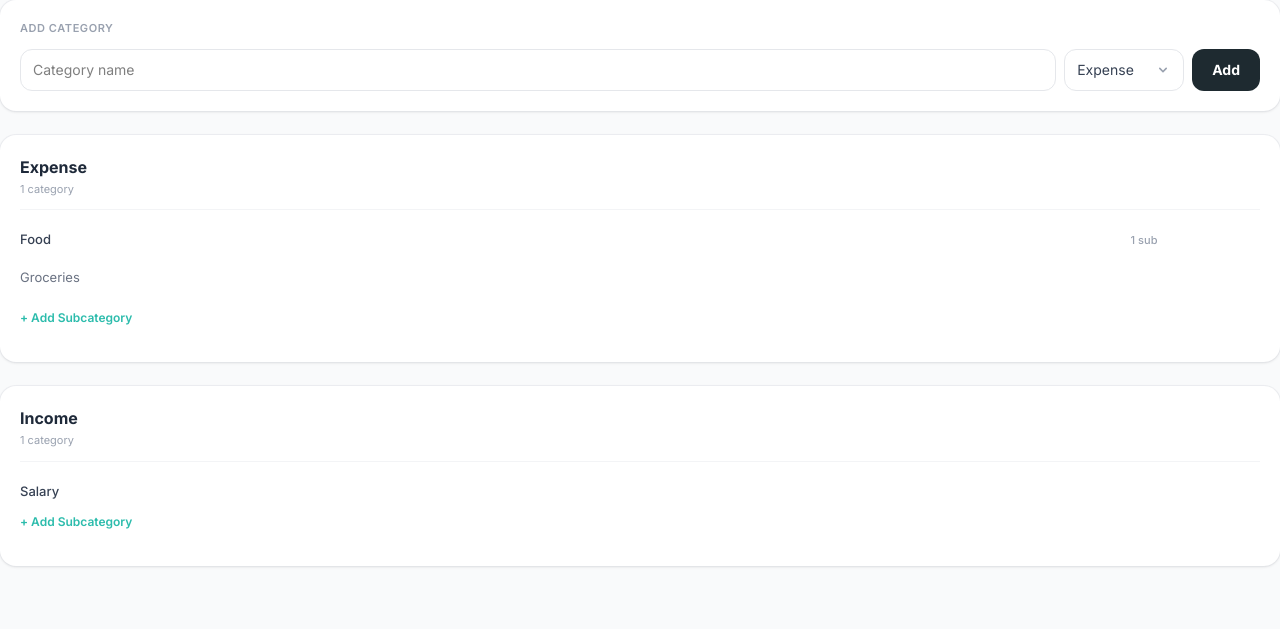
Test case: CategoryManager › shows newly added subcategory immediately without refresh
Expected: the text "Groceries" is shown, [20,269,80,285]
// Add a subcategory
Click the button "+ Add Subcategory" below "Groceries": (76, 318) [12,304,140,332]
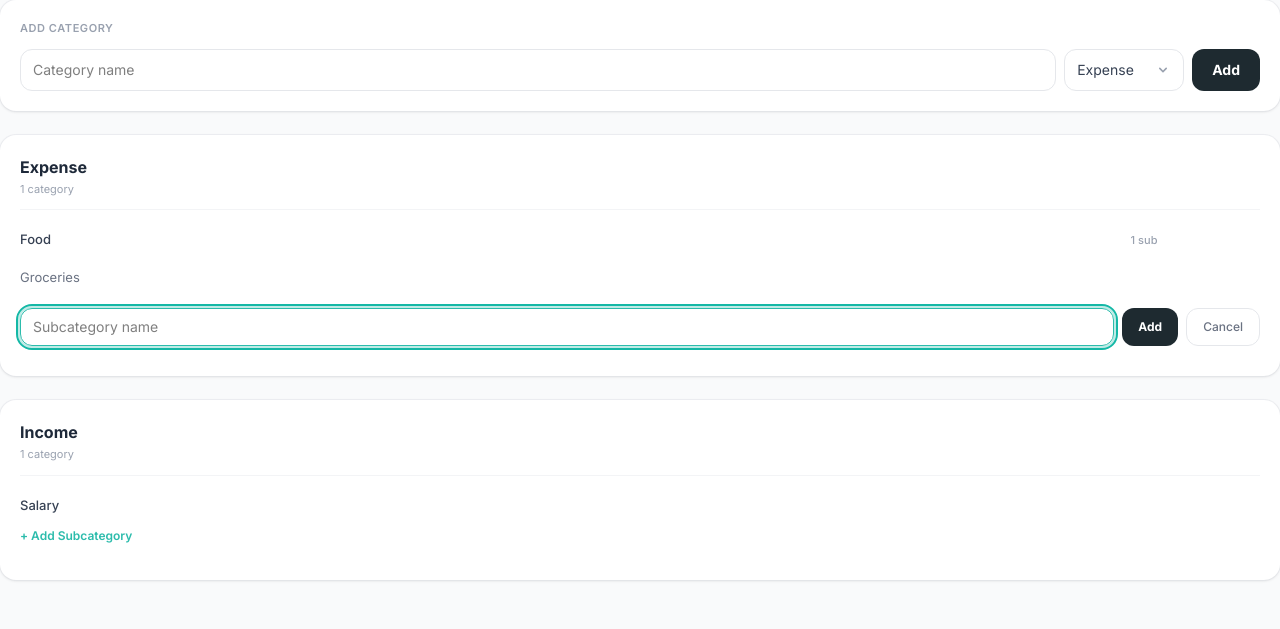
In the field with placeholder "Subcategory name": (567, 327) [20,308,1114,346], type "Snacks"
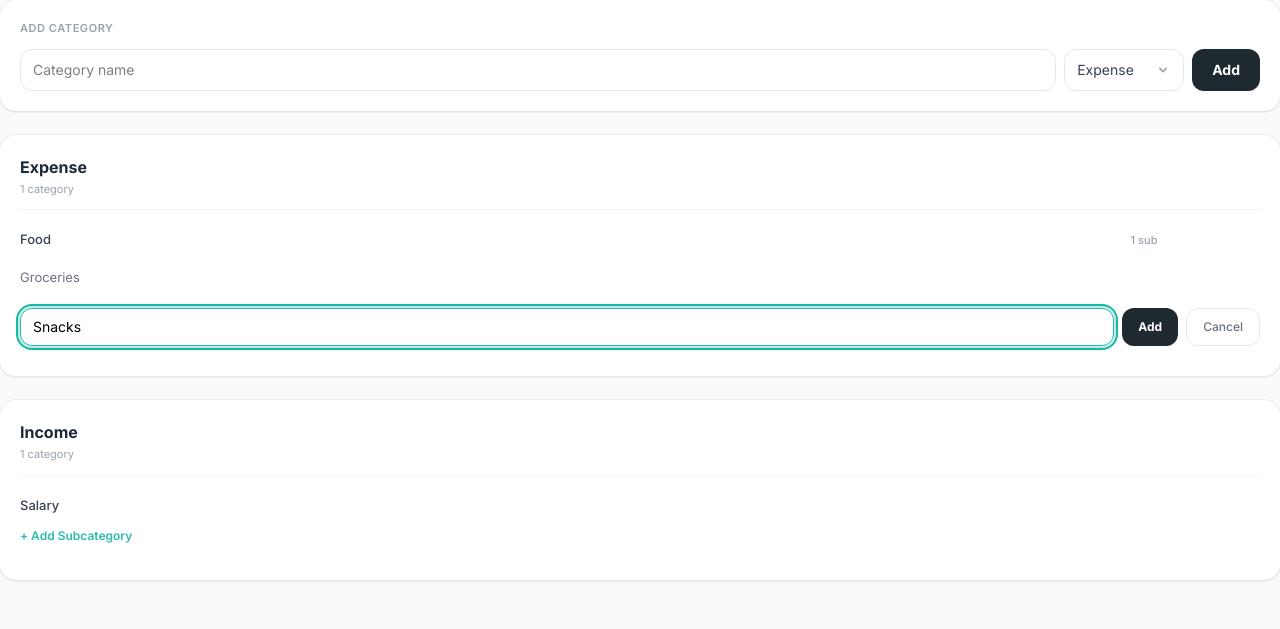
Click the 2nd button "Add": (1150, 327) [1122,308,1178,346]
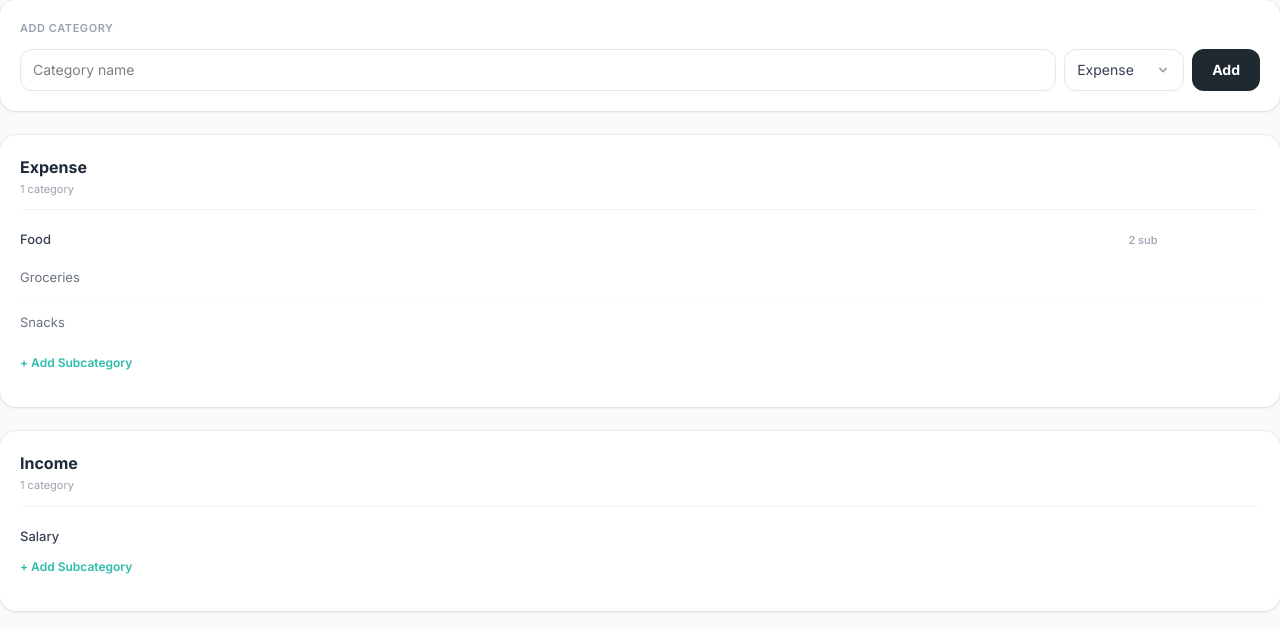
Now the text "Snacks" is shown, box [20,314,65,330]
